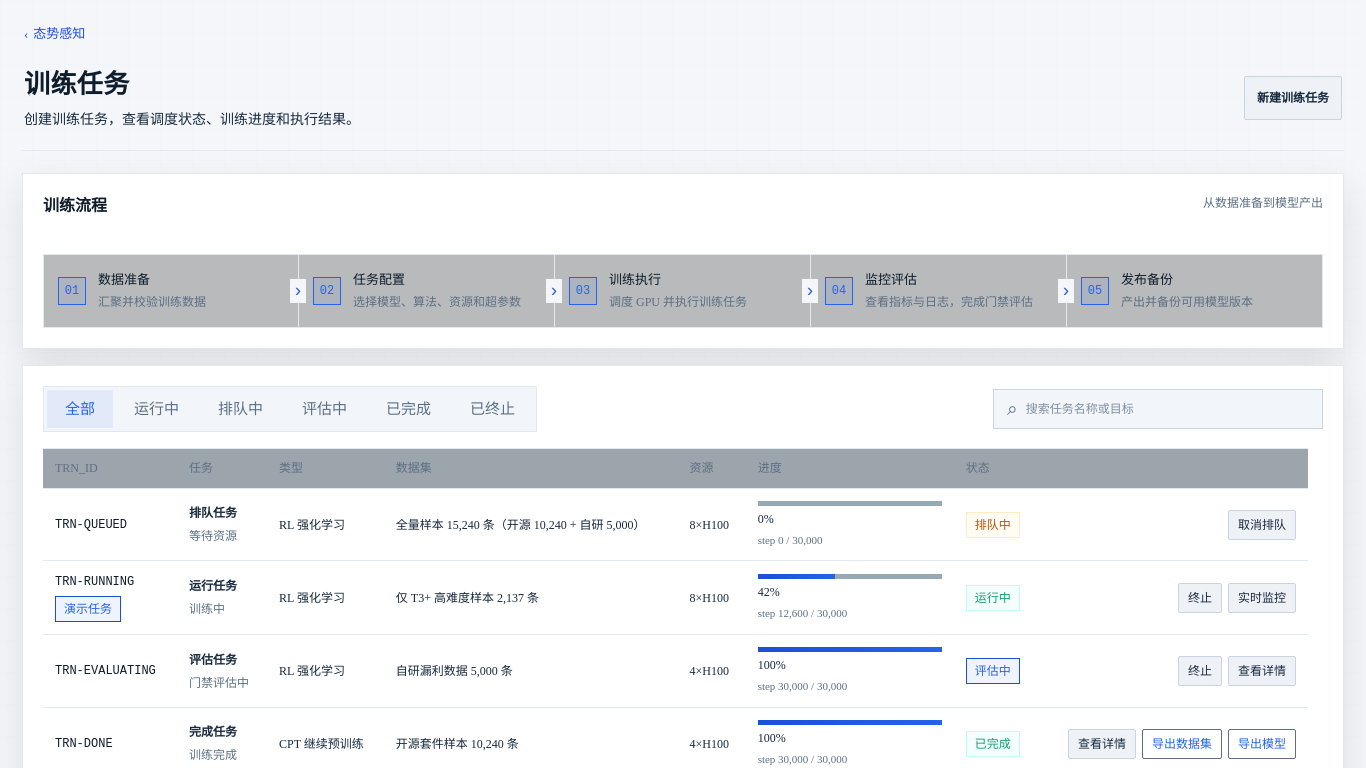
Scenario: Training › opens the live detail route and renders API progress with demo telemetry
The width and height of the screenshot is (1366, 768).
Click the link with aria-label "实时监控 TRN-RUNNING" at (1262, 598), box [1228,583,1296,613]
(page scrolled)
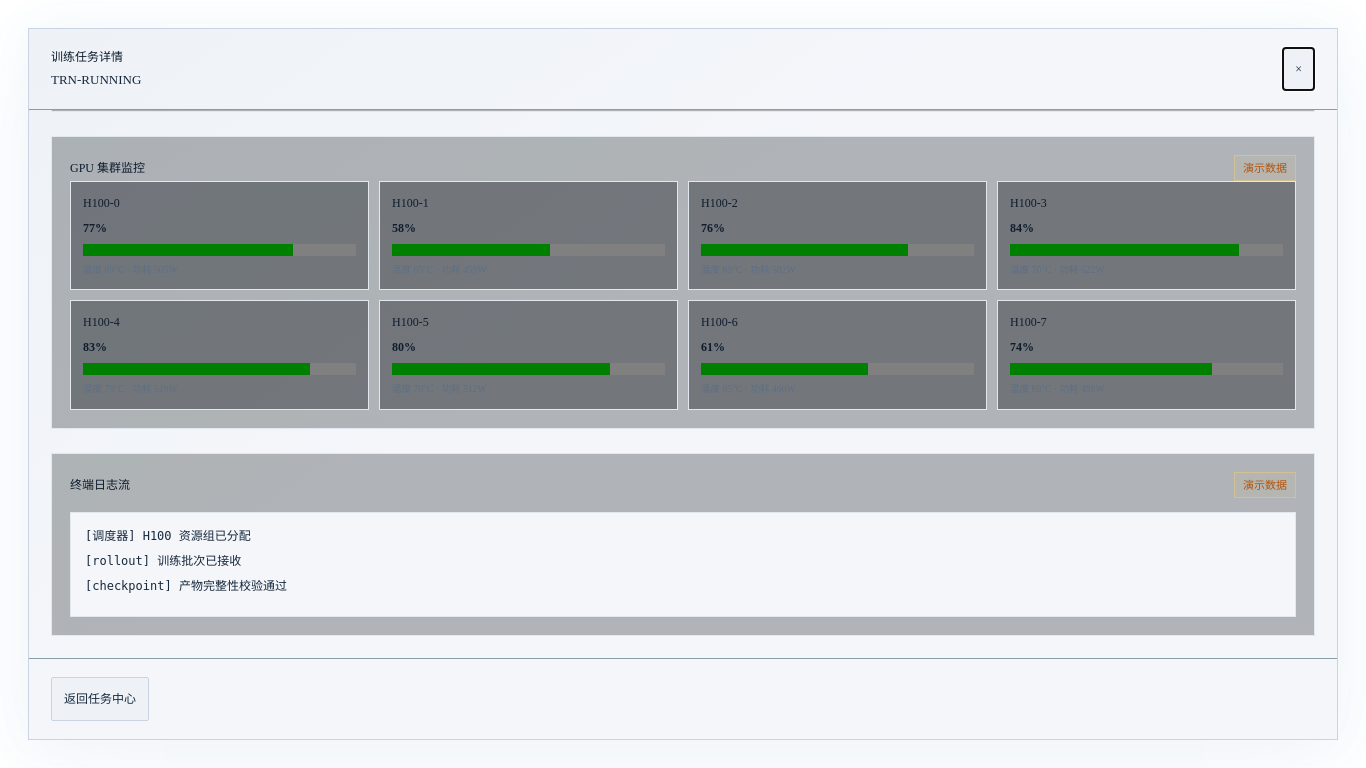
Check: the dialog "训练任务详情" is shown
Check: the heading "GPU 集群监控" is shown, box [70,159,145,177]
Check: the heading "终端日志流" is shown, box [70,476,130,494]
